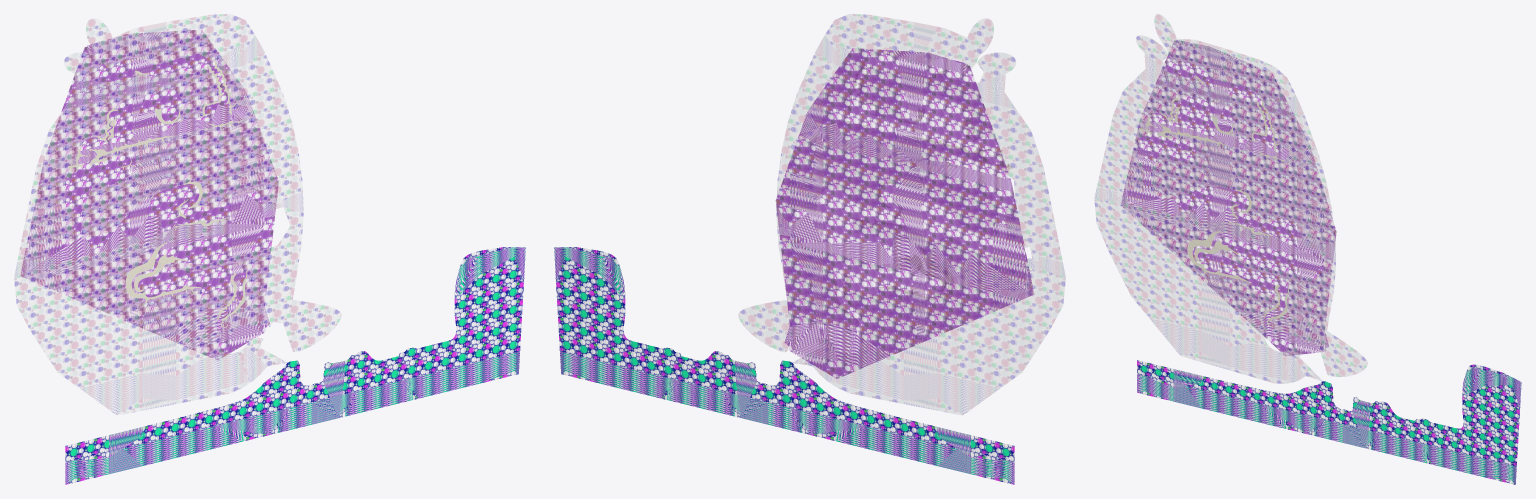
The model's file is tainai02.glb.
3 renders of one model, left to right at view 1: azimuth 30°, elevation 25°; view 2: azimuth 150°, elevation 25°; view 3: azimuth 330°, elevation 25°, orthographic. The views are drawn at different scales.
Parts seen in each view (by area): view 1: tainai02; view 2: tainai02; view 3: tainai02.
Boxes of the visible parts, x1,y1,x2,y2 form: tainai02: (14, 14, 525, 484); tainai02: (554, 14, 1065, 484); tainai02: (1094, 14, 1521, 484).
Bounding box in the file's own units: 6061 × 5204 × 261.
Materials: 4 (4 with a texture image).
